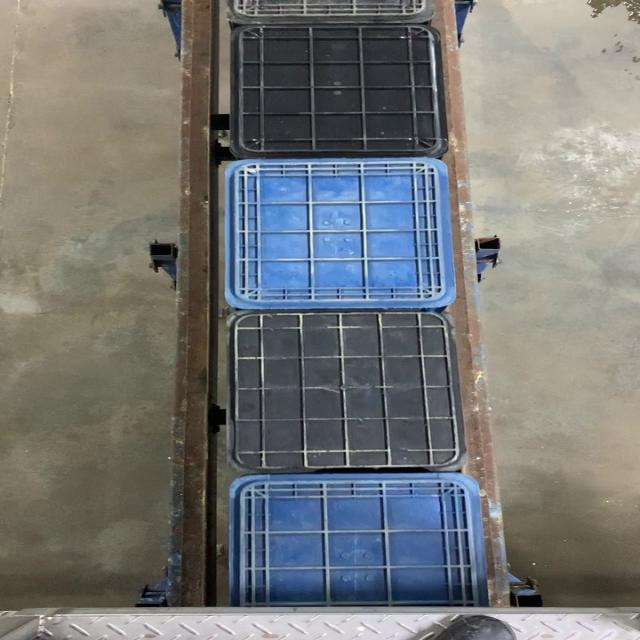Box: (223, 310, 467, 472), (221, 158, 458, 310), (224, 24, 448, 158)
